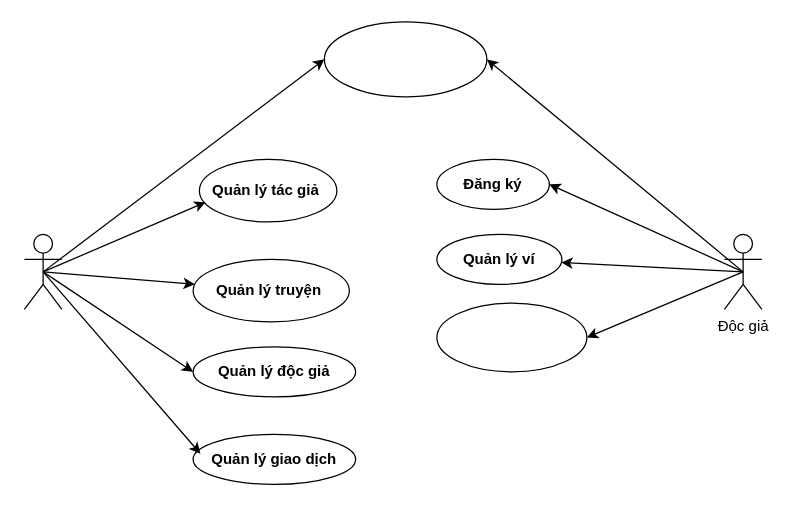
Some shapes in this 790 by 506 pixel diagram are drawn without their labels. The centre of each missing label's shape, as x and y in pixels:
"Admin" goes at (42,271).
"Quản thông tin cá nhân" goes at (511,337).
"Đăng nhập" goes at (405,59).
